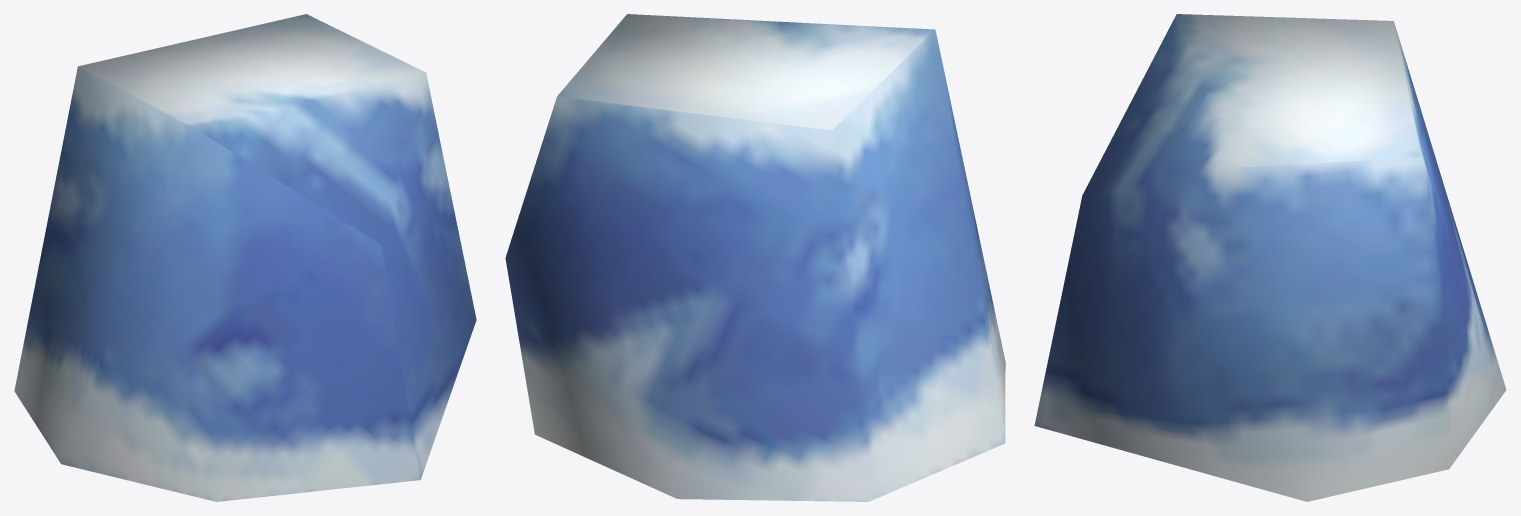
File: SM_stoneB_03.fbx
3 views of the same model, side by side, from view 1: azimuth 30°, elevation 25°; view 2: azimuth 150°, elevation 25°; view 3: azimuth 270°, elevation 25° (orthographic). The views are drawn at different scales.
Visible parts, largest first — view 1: SM_stoneB_03; view 2: SM_stoneB_03; view 3: SM_stoneB_03.
Boxes of the visible parts, x1=… form: SM_stoneB_03: x1=14, y1=14, x2=476, y2=501; SM_stoneB_03: x1=505, y1=14, x2=1005, y2=501; SM_stoneB_03: x1=1034, y1=14, x2=1506, y2=501.
Size of the model in its own units: 0.7065 by 0.5599 by 0.7076.
